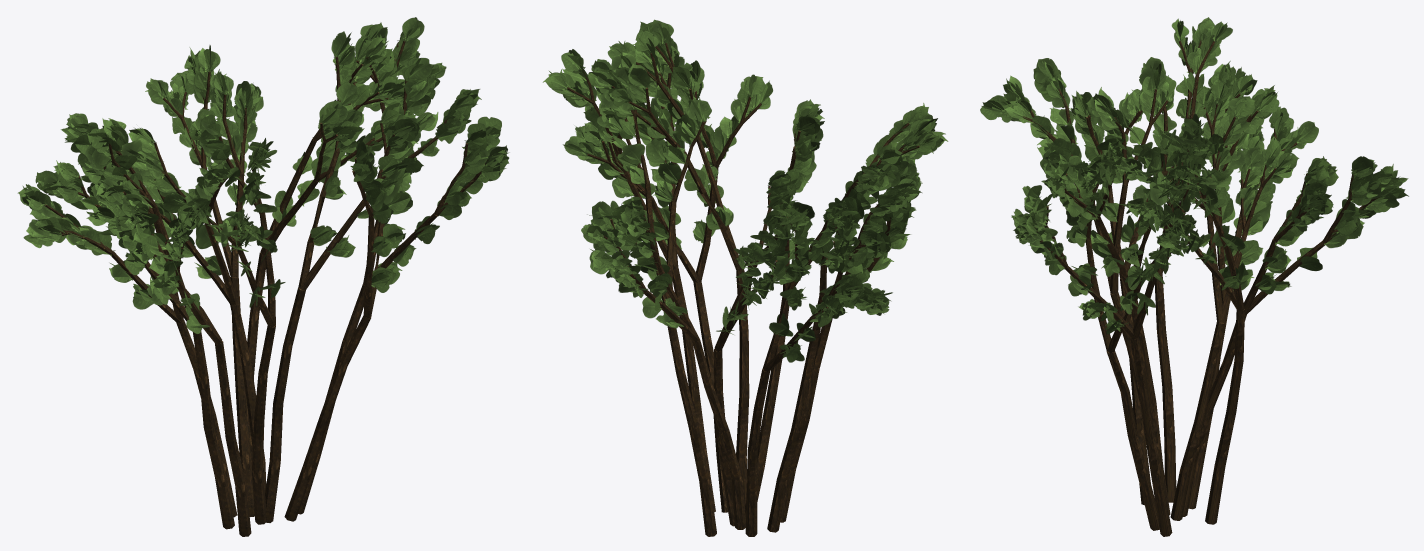
Rendered from hazel_coppice_v01.glb.
The picture shows the model from 3 angles, left to right: view 1: azimuth 30°, elevation 25°; view 2: azimuth 150°, elevation 25°; view 3: azimuth 270°, elevation 25°; orthographic projection. The views are drawn at different scales.
Visible parts, largest first — view 1: hazel_coppice_v01; view 2: hazel_coppice_v01; view 3: hazel_coppice_v01.
Part boxes in pixels (<box>): hazel_coppice_v01: <box>17,17,509,536</box>; hazel_coppice_v01: <box>543,19,948,536</box>; hazel_coppice_v01: <box>980,17,1408,536</box>.
Size of the model in its own units: 2.62 by 3.06 by 2.65.
Materials: 2 (2 with a texture image).
